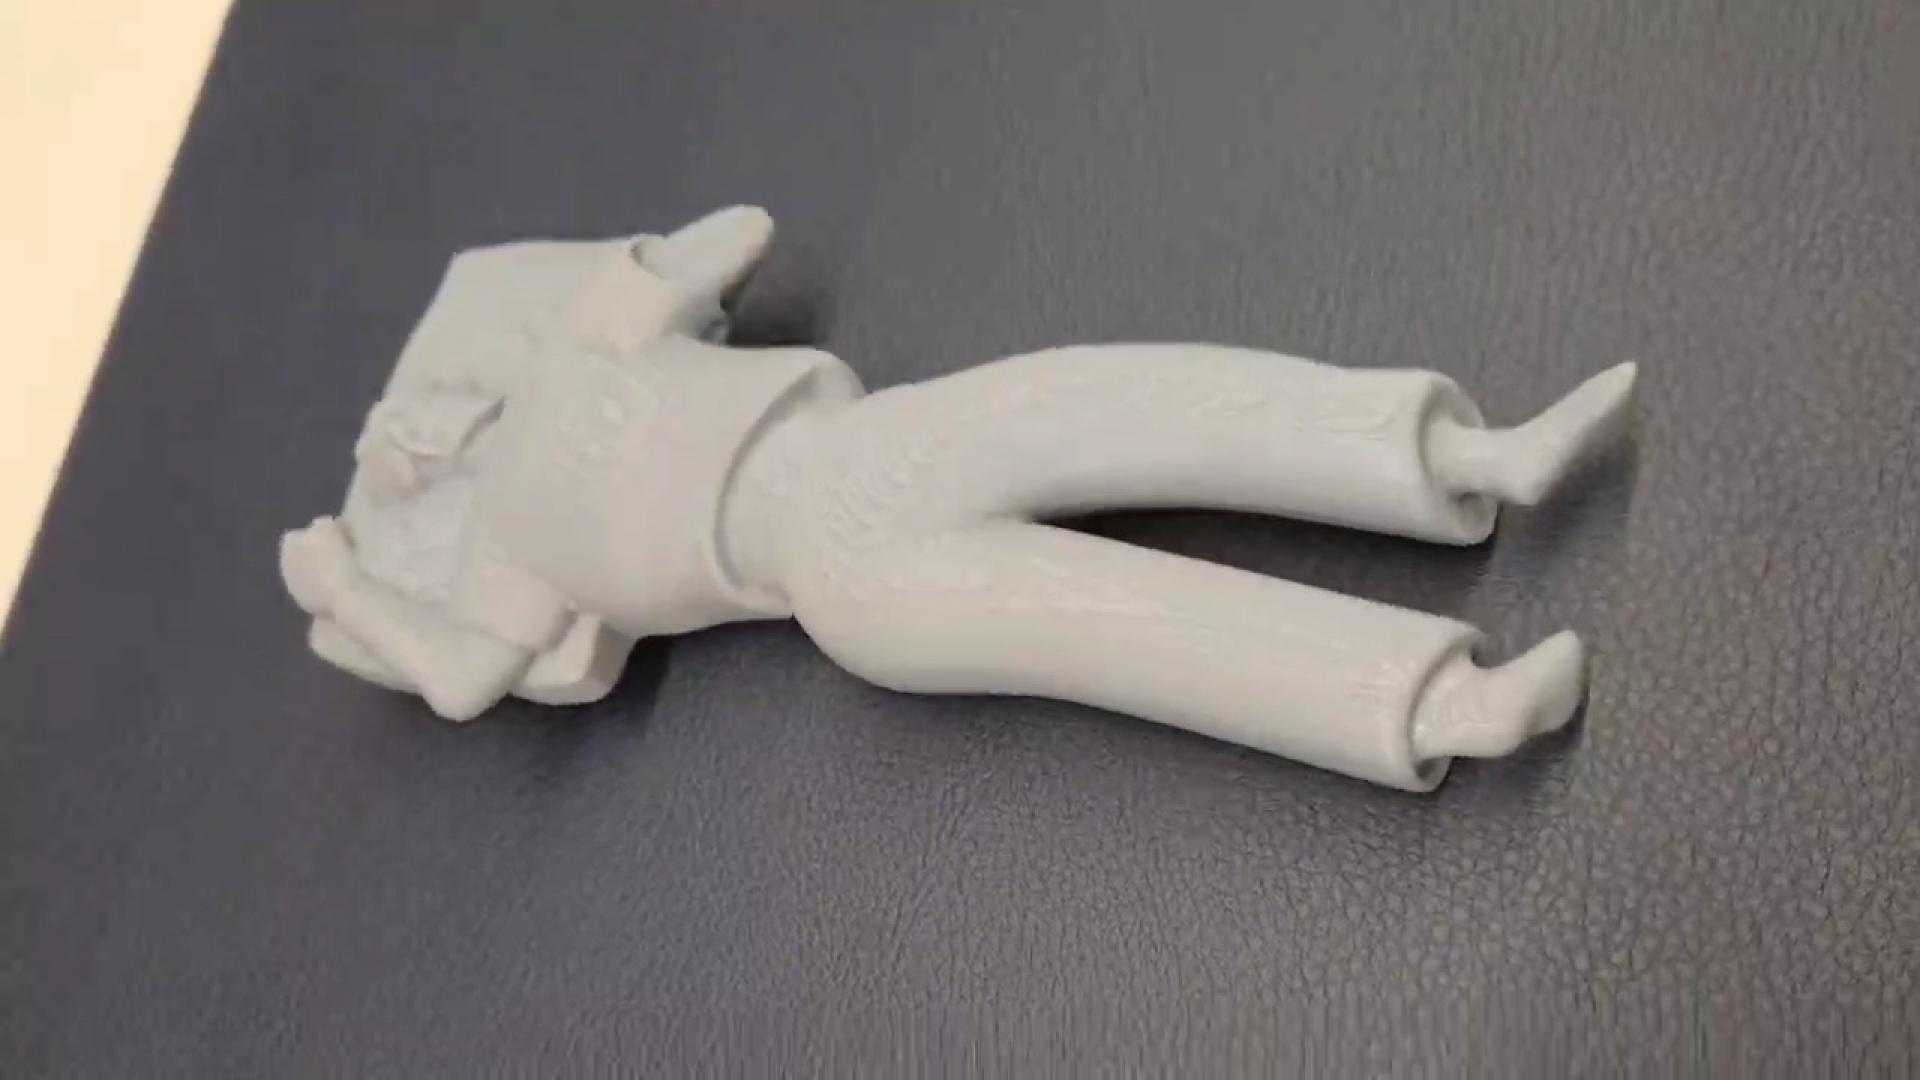Bad-style: (272, 194, 1647, 822)
